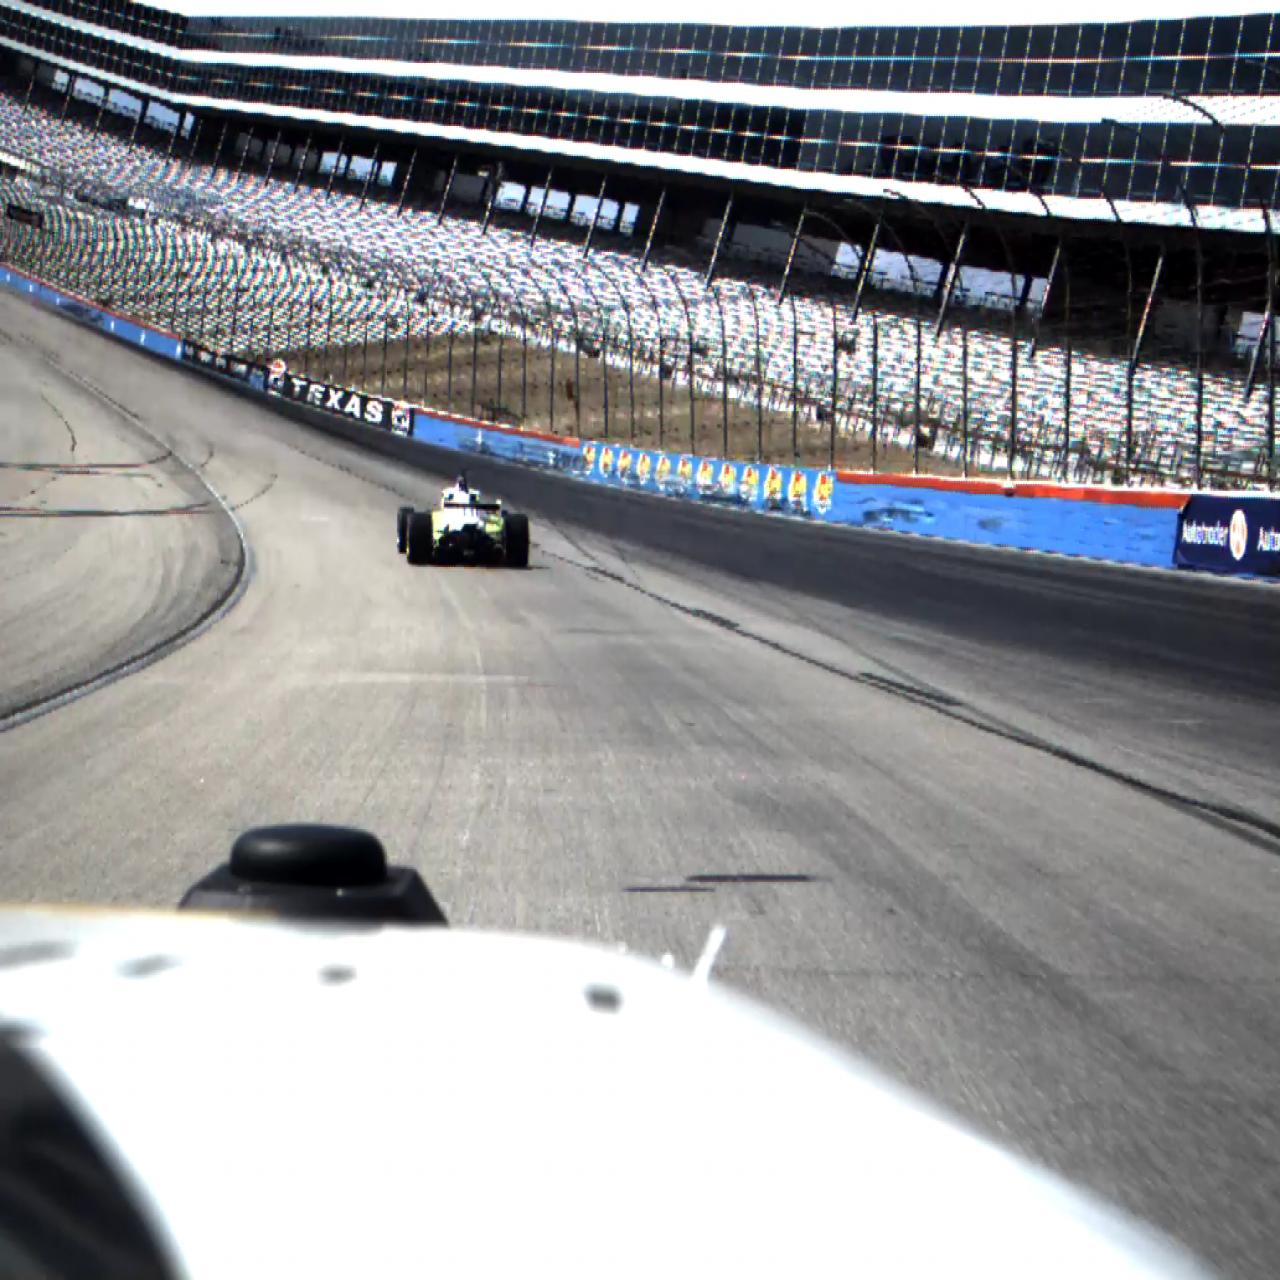AV: (396, 467, 530, 570)
Wheel: (407, 513, 433, 565), (506, 515, 529, 568), (397, 505, 415, 554)
